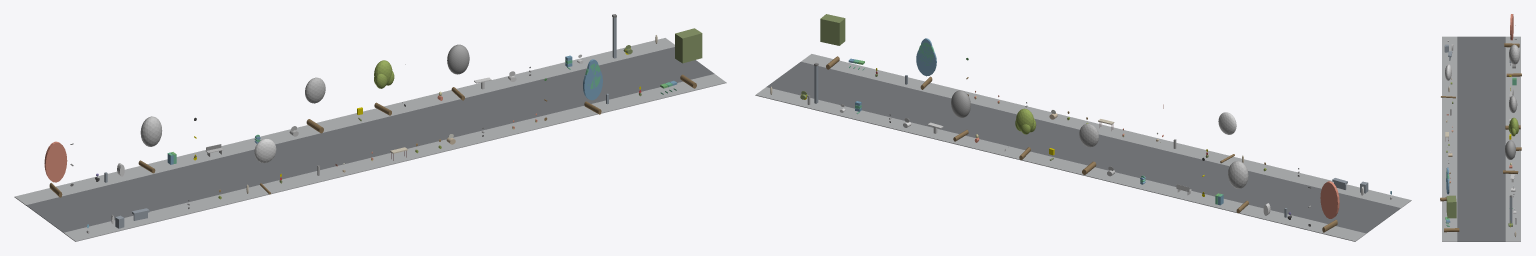
The picture shows the model from 3 angles, left to right: view 1: azimuth 30°, elevation 25°; view 2: azimuth 150°, elevation 25°; view 3: azimuth 270°, elevation 25°; orthographic projection. The views are drawn at different scales.
Visible parts, largest first — view 1: road_slab, sidewalk_left, sidewalk_right, inst_0025, inst_0018, inst_0024, inst_0023, inst_0019, inst_0022, inst_0021, inst_0020; view 2: road_slab, sidewalk_right, sidewalk_left, inst_0025, inst_0018, inst_0024, inst_0019, inst_0023, inst_0022, inst_0021, inst_0020; view 3: road_slab, sidewalk_left, sidewalk_right, inst_0025, inst_0019, inst_0023, inst_0022, inst_0018, inst_0021, inst_0020, inst_0024, inst_0011.
Boxes of the visible parts, left/top/right/bottom form: road_slab: left=26, top=47, right=714, bottom=232; sidewalk_left: left=64, top=74, right=726, bottom=241; sidewalk_right: left=14, top=38, right=674, bottom=205; inst_0025: left=675, top=28, right=702, bottom=88; inst_0018: left=44, top=141, right=67, bottom=197; inst_0024: left=583, top=59, right=602, bottom=114; inst_0023: left=447, top=44, right=469, bottom=100; inst_0019: left=138, top=116, right=162, bottom=173; inst_0022: left=374, top=60, right=394, bottom=115; inst_0021: left=305, top=77, right=325, bottom=133; inst_0020: left=254, top=138, right=276, bottom=194; road_slab: left=766, top=62, right=1400, bottom=233; sidewalk_right: left=755, top=87, right=1366, bottom=241; sidewalk_left: left=801, top=54, right=1411, bottom=208; inst_0025: left=820, top=14, right=845, bottom=69; inst_0018: left=1320, top=181, right=1339, bottom=232; inst_0024: left=916, top=38, right=936, bottom=89; inst_0019: left=1228, top=161, right=1248, bottom=213; inst_0023: left=951, top=90, right=970, bottom=141; inst_0022: left=1015, top=108, right=1036, bottom=160; inst_0021: left=1079, top=123, right=1098, bottom=174; inst_0020: left=1218, top=112, right=1236, bottom=163; road_slab: left=1457, top=36, right=1505, bottom=241; sidewalk_left: left=1442, top=36, right=1457, bottom=241; sidewalk_right: left=1505, top=36, right=1520, bottom=241; inst_0025: left=1444, top=195, right=1459, bottom=232; inst_0019: left=1506, top=44, right=1521, bottom=76; inst_0023: left=1503, top=140, right=1518, bottom=173; inst_0022: left=1508, top=117, right=1521, bottom=150; inst_0018: left=1504, top=14, right=1519, bottom=47; inst_0021: left=1505, top=96, right=1520, bottom=129; inst_0020: left=1441, top=64, right=1455, bottom=98; inst_0024: left=1440, top=167, right=1449, bottom=201; inst_0011: left=1509, top=195, right=1512, bottom=223.
Bounding box in the file's own units: 80 × 6.08 × 13.48.
